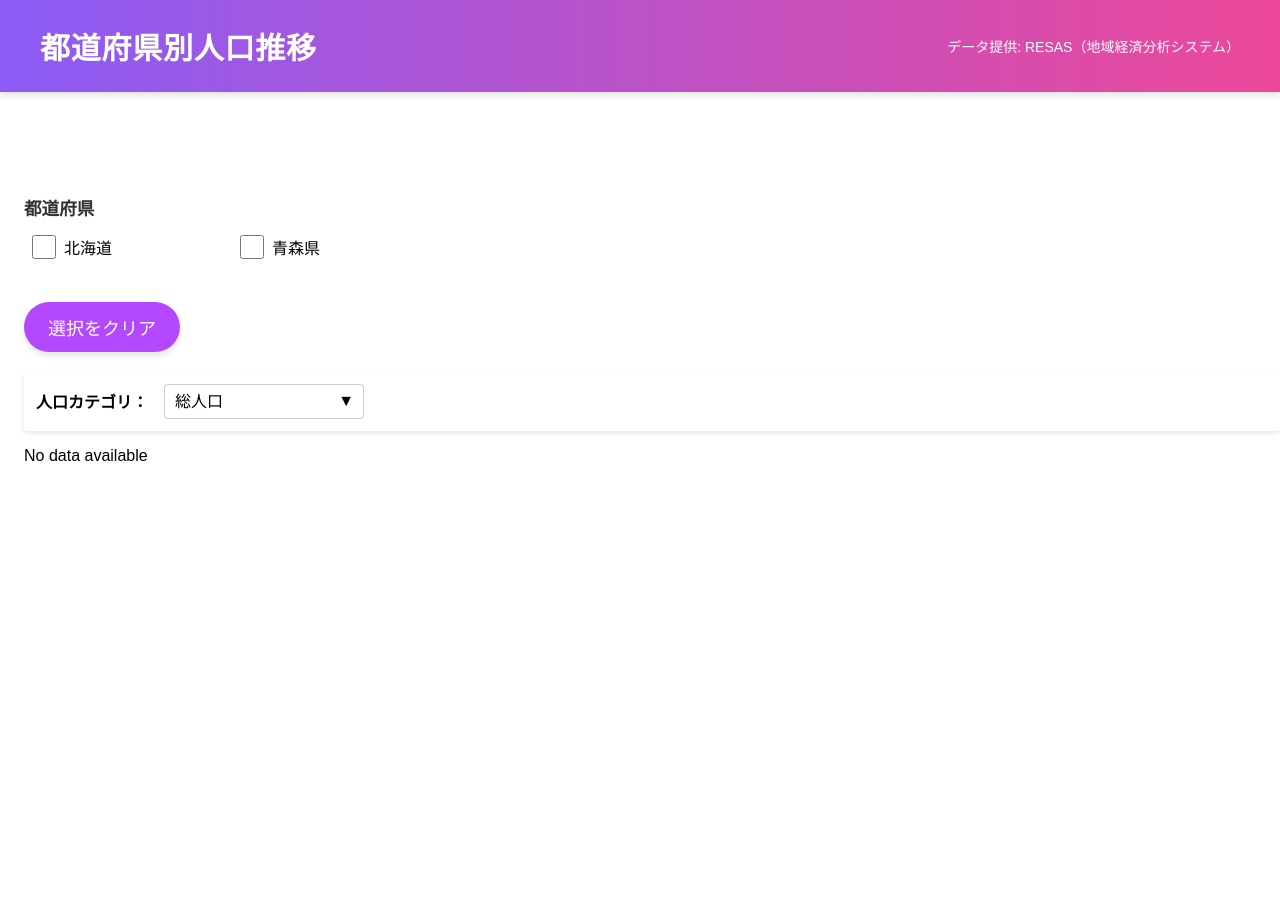
it: Population Data Flow › displays prefecture options and updates graph on selection
The width and height of the screenshot is (1280, 900).
Check: the text "北海道" is shown, box [64,235,112,259]
Click the checkbox labelled "北海道" at (44, 247), box [32,235,56,259]
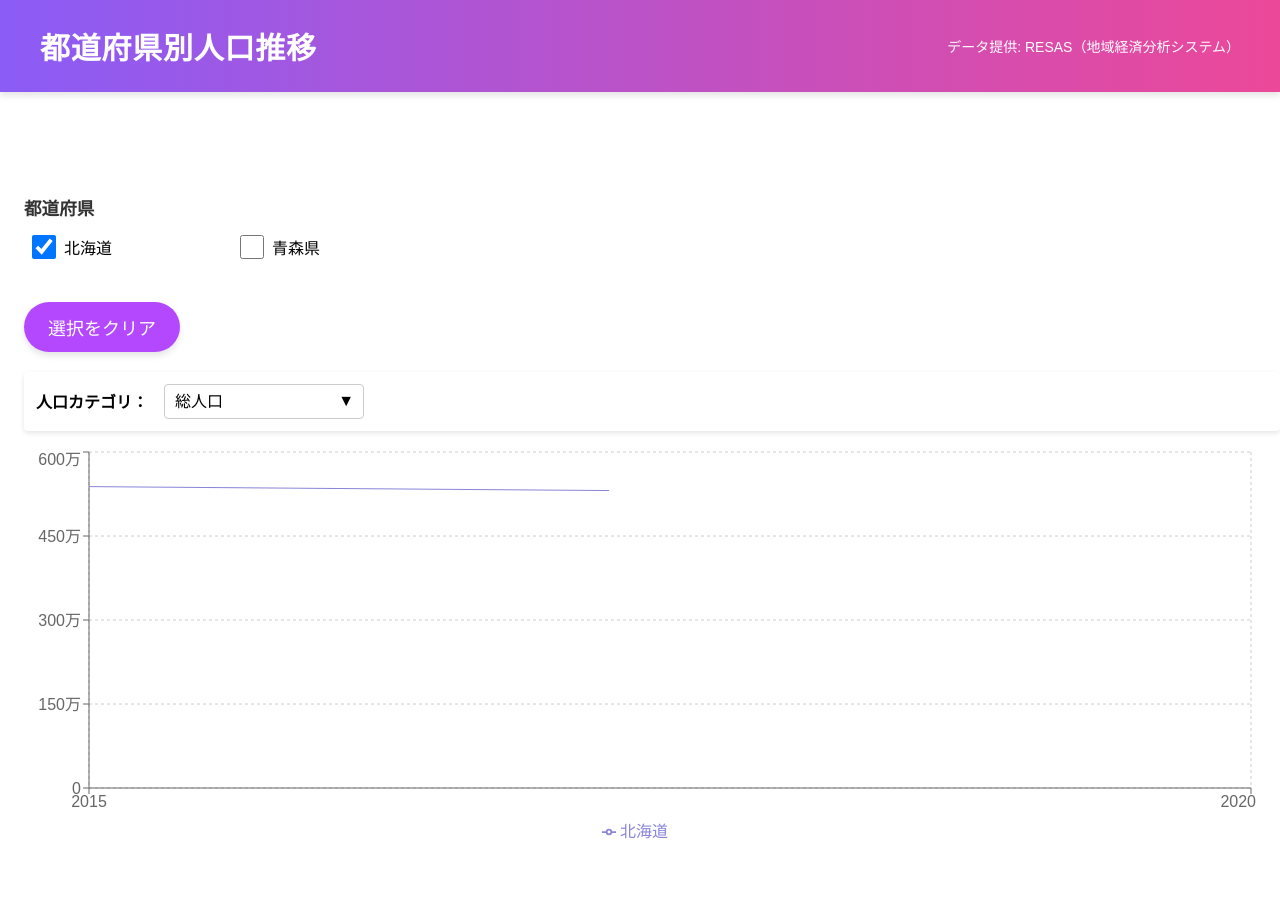
Check: the element with class "recharts-responsive-container" is shown, box [24,447,1256,847]
